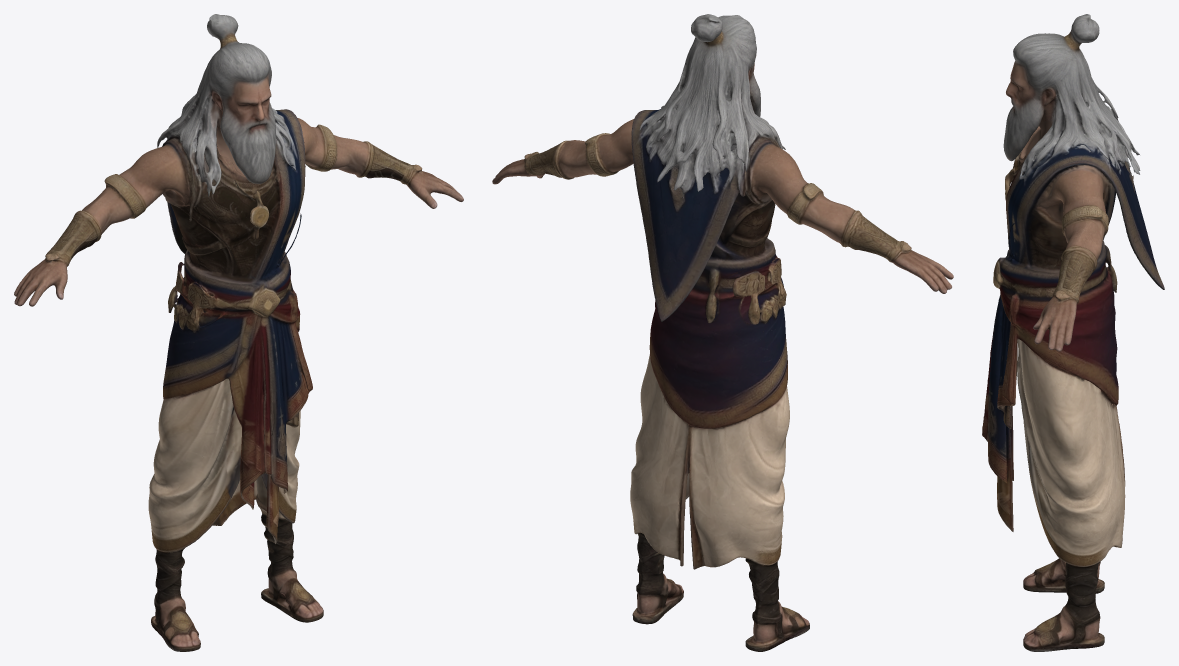
The model's file is Bhisma.glb.
3 renders of one model, left to right at view 1: azimuth 30°, elevation 25°; view 2: azimuth 150°, elevation 25°; view 3: azimuth 270°, elevation 25°, orthographic. The views are drawn at different scales.
Bounding box in the file's own units: 1.47 × 1.89 × 0.5244.
Materials: 1 (1 with a texture image).
